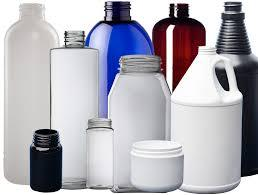Container for household chemicals: (0, 1, 258, 195)
